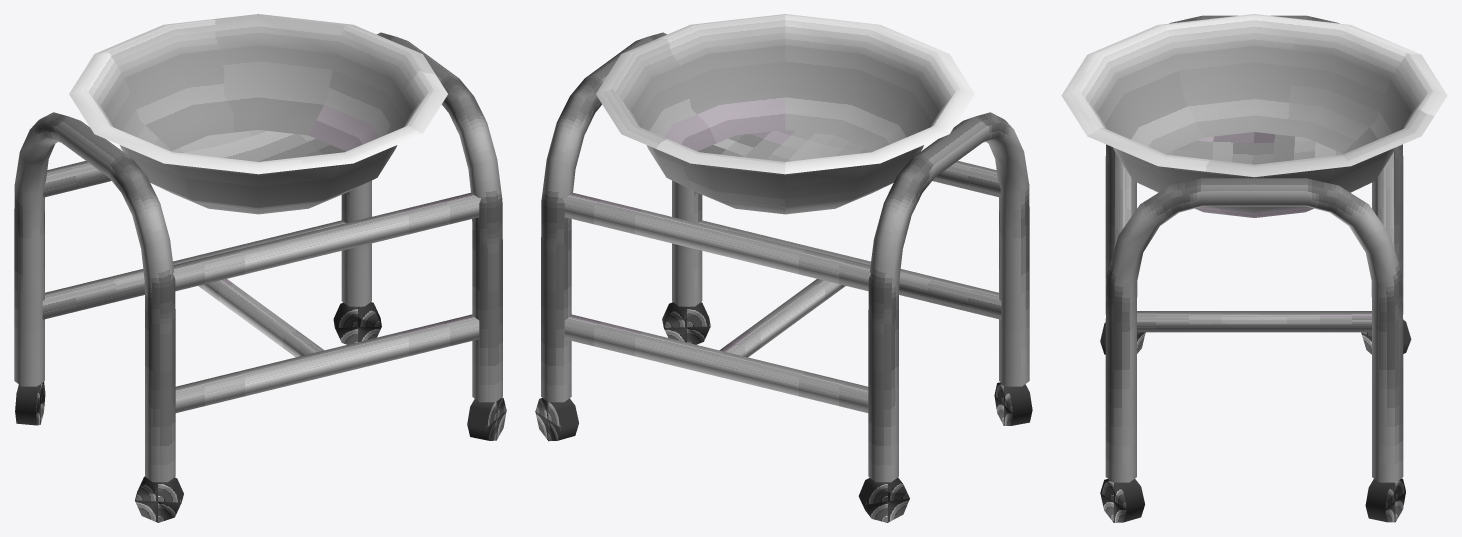
File: int_hsp_sterilizer.dae
3 renders of one model, left to right at view 1: azimuth 30°, elevation 25°; view 2: azimuth 150°, elevation 25°; view 3: azimuth 270°, elevation 25°, orthographic.
Visible parts, largest first — view 1: int_hsp_sterilizer; view 2: int_hsp_sterilizer; view 3: int_hsp_sterilizer.
Part boxes in pixels (left/top/right/bottom): int_hsp_sterilizer: left=14, top=14, right=506, bottom=522; int_hsp_sterilizer: left=535, top=14, right=1032, bottom=522; int_hsp_sterilizer: left=1061, top=14, right=1447, bottom=522.
Size of the model in its own units: 27.27 by 24.01 by 24.11.
2 materials, 2 textured.
